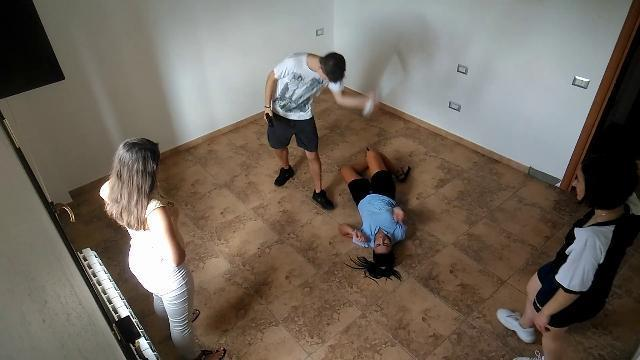non-violence: (494, 143, 640, 359), (99, 138, 233, 360), (336, 151, 412, 285)
violence: (262, 45, 412, 211)
weapon: (264, 109, 273, 127)
